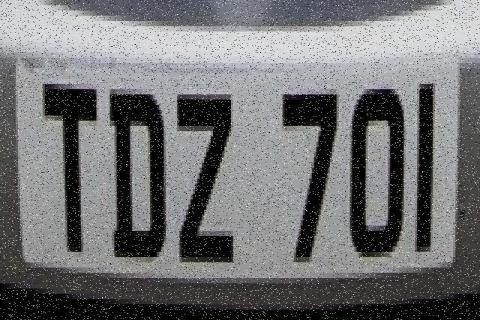LicensePlate: (11, 4, 472, 296)
